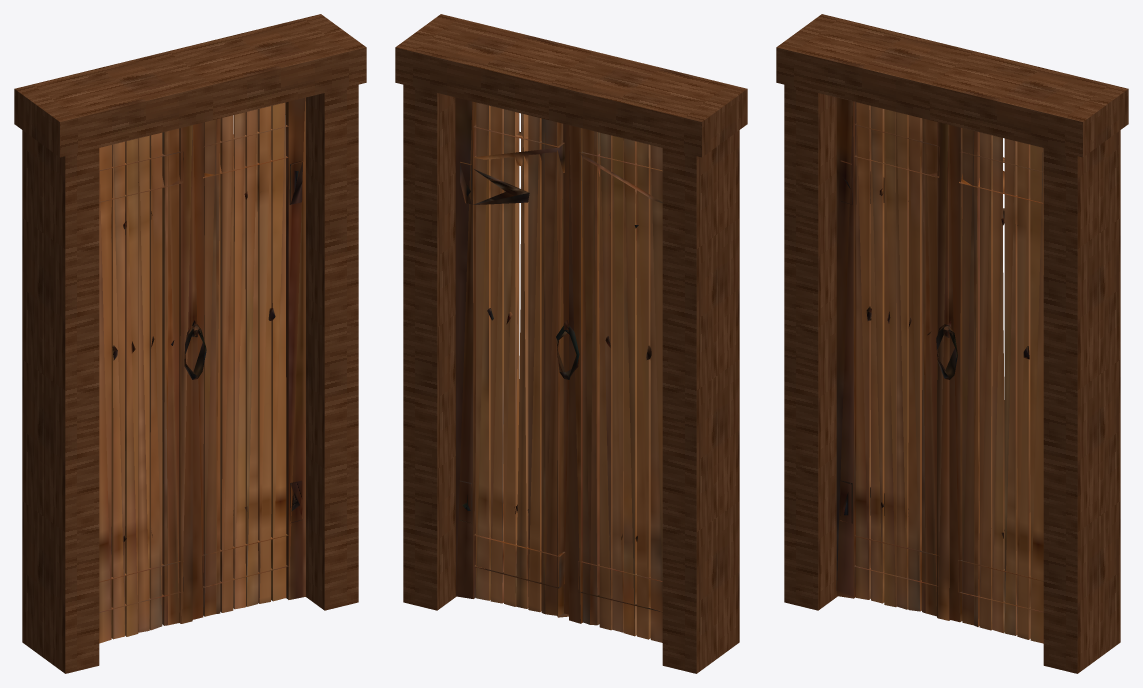
File: door-studded.lod2.glb
The picture shows the model from 3 angles, left to right: view 1: azimuth 30°, elevation 25°; view 2: azimuth 150°, elevation 25°; view 3: azimuth 330°, elevation 25°; orthographic projection.
Parts seen in each view (by area): view 1: Leaf, Frame; view 2: Leaf, Frame; view 3: Leaf, Frame.
Boxes of the visible parts, x1=… form: Leaf: x1=99, y1=97, x2=305, y2=643; Frame: x1=14, y1=14, x2=366, y2=673; Leaf: x1=455, y1=97, x2=662, y2=642; Frame: x1=395, y1=14, x2=747, y2=673; Leaf: x1=836, y1=97, x2=1043, y2=643; Frame: x1=776, y1=14, x2=1128, y2=673.
Bounding box in the file's own units: 1.36 × 2.35 × 0.35.
2 materials, 2 textured.
